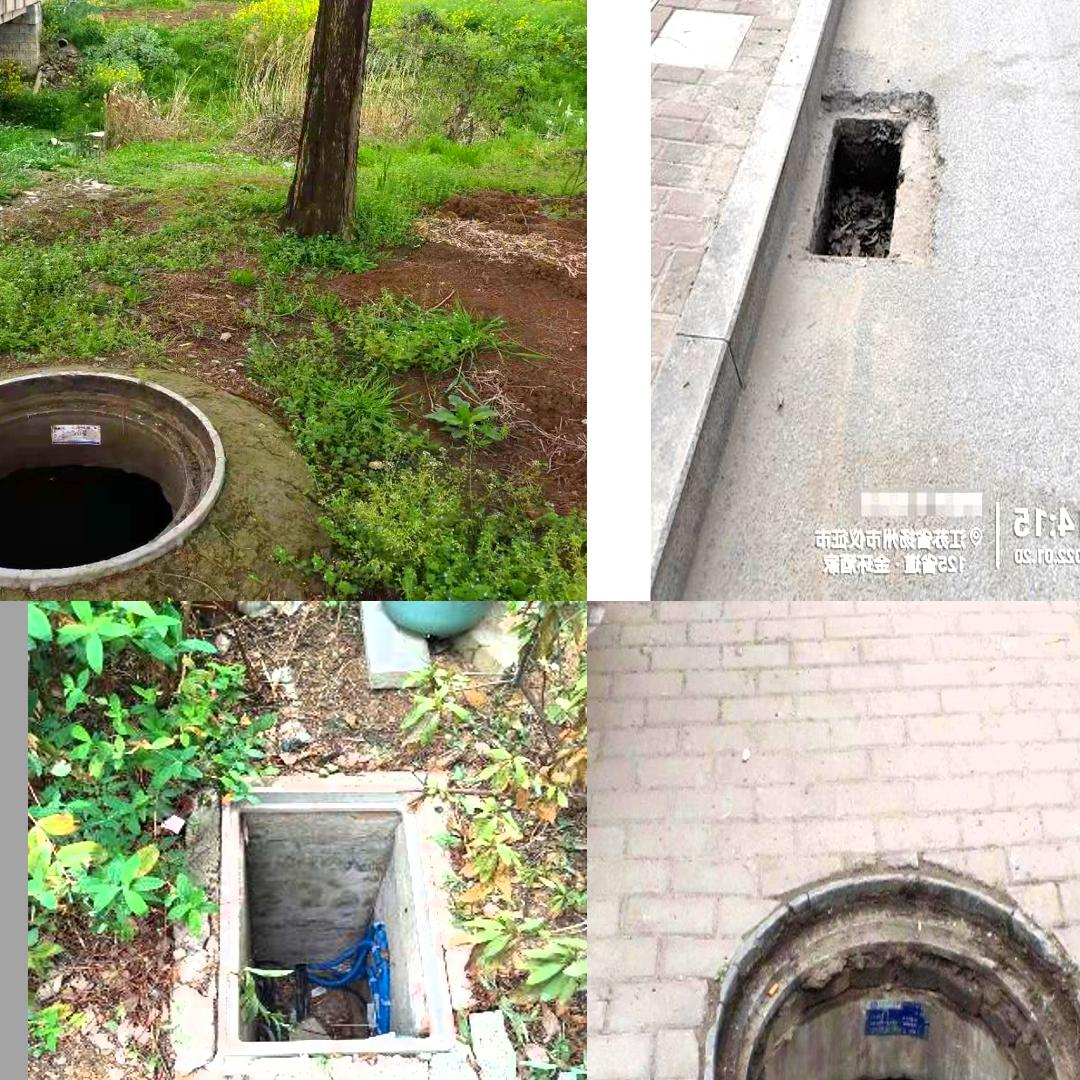lose: (700, 850, 1080, 1080), (211, 787, 453, 1054), (0, 368, 253, 577), (756, 65, 969, 299)
